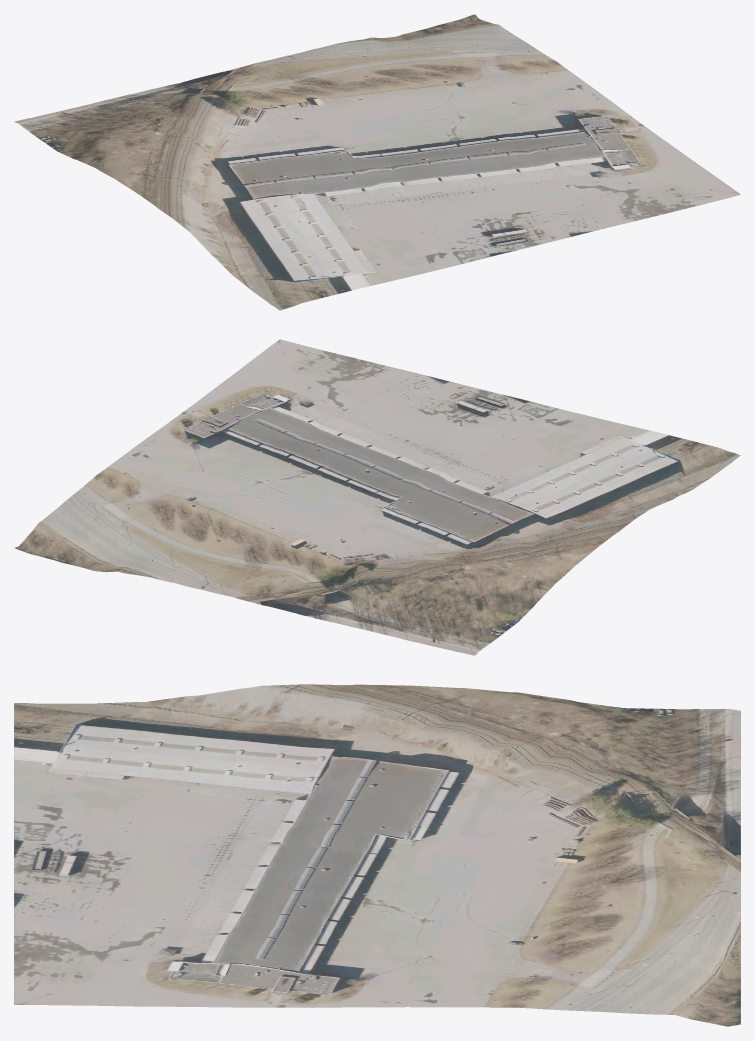
Rendered from CM_Terrain_24488001_6819999.fbx.
3 views of the same model, one above another, from view 1: azimuth 30°, elevation 25°; view 2: azimuth 150°, elevation 25°; view 3: azimuth 270°, elevation 25° (orthographic). The views are drawn at different scales.
Visible parts, largest first — view 1: CM_Terrain_24488001_6819999_LOD0; view 2: CM_Terrain_24488001_6819999_LOD0; view 3: CM_Terrain_24488001_6819999_LOD0.
Boxes of the visible parts, bbox=[...] form: CM_Terrain_24488001_6819999_LOD0: bbox=[14, 14, 740, 310]; CM_Terrain_24488001_6819999_LOD0: bbox=[14, 339, 740, 655]; CM_Terrain_24488001_6819999_LOD0: bbox=[14, 684, 740, 1026].
Size of what is drawn, in the model's own units: 205 by 12.24 by 205.
